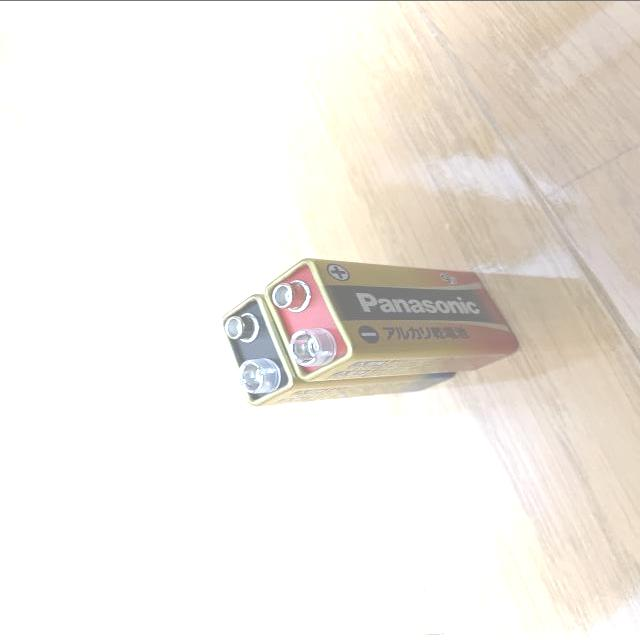9V: (264, 257, 522, 382), (220, 291, 453, 406)
